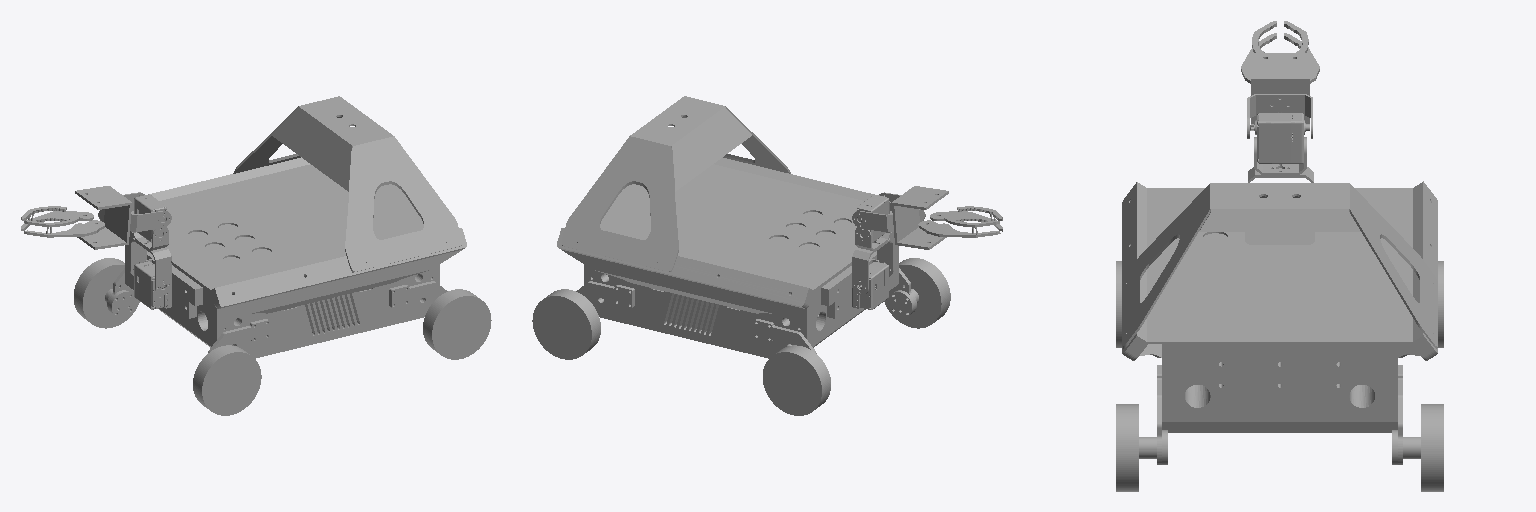
--- What the picture shows (computed from the rendered views, not written in the file) ---
3 views of the same robot in one strip: view 1: azimuth 30°, elevation 25°; view 2: azimuth 150°, elevation 25°; view 3: azimuth 270°, elevation 25° (orthographic).
Robot: combine — 22 links, 21 joints (6 continuous, 15 fixed); root link base_link; default pose: all joints at 0.
Visible links, largest first — view 1: base_link, car_wheel_v1_1, car_wheel_v1_2, car_wheel_v1_3, grap_base_v1_1, big_U_self_v1_1, new_motor_v2_1, grap2_v1_Mirror___1__1, car_stand_v1_1, car_stand_v1_3, big_U_self_v1__1__1, grap2_v1_1 (+2 smaller); view 2: base_link, car_wheel_v1_3, car_wheel_v1_4, car_wheel_v1_1, grap_base_v1_1, big_U_self_v1_1, new_motor_v2_1, grap2_v1_1, car_stand_v1_2, car_stand_v1_4, big_U_self_v1__1__1, grap2_v1_Mirror___1__1 (+2 smaller); view 3: base_link, grap_base_v1_1, new_motor_v2__1__1, car_wheel_v1_2, car_wheel_v1_4, big_U_self_v1__1__1, small_U_self_v1_1, grap2_v1_Mirror___1__1, grap2_v1_1.
Boxes of the visible links, box(x1,y1,x2,y2) form: base_link: box(98, 96, 466, 358); car_wheel_v1_1: box(193, 345, 261, 415); car_wheel_v1_2: box(423, 289, 491, 359); car_wheel_v1_3: box(74, 258, 139, 328); grap_base_v1_1: box(75, 186, 131, 249); big_U_self_v1_1: box(130, 238, 171, 294); new_motor_v2_1: box(134, 261, 166, 309); grap2_v1_Mirror___1__1: box(24, 216, 104, 237); car_stand_v1_1: box(389, 281, 447, 307); car_stand_v1_3: box(208, 319, 269, 352); big_U_self_v1__1__1: box(123, 192, 171, 231); grap2_v1_1: box(21, 206, 93, 230); base_link: box(557, 96, 925, 358); car_wheel_v1_3: box(763, 345, 830, 415); car_wheel_v1_4: box(532, 289, 600, 359); car_wheel_v1_1: box(884, 258, 950, 328); grap_base_v1_1: box(892, 186, 948, 249); big_U_self_v1_1: box(852, 238, 893, 295); new_motor_v2_1: box(857, 262, 888, 309); grap2_v1_1: box(918, 216, 1000, 237); car_stand_v1_2: box(576, 281, 634, 307); car_stand_v1_4: box(754, 319, 816, 353); big_U_self_v1__1__1: box(852, 192, 900, 232); grap2_v1_Mirror___1__1: box(930, 206, 1002, 231); base_link: box(1122, 181, 1437, 432); grap_base_v1_1: box(1251, 53, 1309, 124); new_motor_v2__1__1: box(1250, 113, 1309, 163); car_wheel_v1_2: box(1116, 404, 1156, 491); car_wheel_v1_4: box(1403, 404, 1443, 491); big_U_self_v1__1__1: box(1247, 94, 1312, 138); small_U_self_v1_1: box(1254, 137, 1306, 174); grap2_v1_Mirror___1__1: box(1241, 21, 1276, 83); grap2_v1_1: box(1284, 21, 1319, 83).
Size in the robot's own frame: 0.5075 by 0.2792 by 0.2434 metres.
22 mesh visuals loaded from 22 distinct referenced files (22 binary STL).

URDF robot description (combine):
<?xml version="1.0" ?>
<!-- =================================================================================== -->
<!-- |    This document was autogenerated by xacro from urdf\combine.xacro.temp        | -->
<!-- |    EDITING THIS FILE BY HAND IS NOT RECOMMENDED                                 | -->
<!-- =================================================================================== -->
<robot xmlns:xacro="http://www.ros.org/wiki/xacro" name="combine">
  <material name="silver">
    <color rgba="0.700 0.700 0.700 1.000"/>
  </material>
  <transmission name="Revolute 16_tran">
    <type>transmission_interface/SimpleTransmission</type>
    <joint name="Revolute 16">
      <hardwareInterface>hardware_interface/EffortJointInterface</hardwareInterface>
    </joint>
    <actuator name="Revolute 16_actr">
      <hardwareInterface>hardware_interface/EffortJointInterface</hardwareInterface>
      <mechanicalReduction>1</mechanicalReduction>
    </actuator>
  </transmission>
  <transmission name="Revolute 17_tran">
    <type>transmission_interface/SimpleTransmission</type>
    <joint name="Revolute 17">
      <hardwareInterface>hardware_interface/EffortJointInterface</hardwareInterface>
    </joint>
    <actuator name="Revolute 17_actr">
      <hardwareInterface>hardware_interface/EffortJointInterface</hardwareInterface>
      <mechanicalReduction>1</mechanicalReduction>
    </actuator>
  </transmission>
  <transmission name="Revolute 18_tran">
    <type>transmission_interface/SimpleTransmission</type>
    <joint name="Revolute 18">
      <hardwareInterface>hardware_interface/EffortJointInterface</hardwareInterface>
    </joint>
    <actuator name="Revolute 18_actr">
      <hardwareInterface>hardware_interface/EffortJointInterface</hardwareInterface>
      <mechanicalReduction>1</mechanicalReduction>
    </actuator>
  </transmission>
  <transmission name="Revolute 19_tran">
    <type>transmission_interface/SimpleTransmission</type>
    <joint name="Revolute 19">
      <hardwareInterface>hardware_interface/EffortJointInterface</hardwareInterface>
    </joint>
    <actuator name="Revolute 19_actr">
      <hardwareInterface>hardware_interface/EffortJointInterface</hardwareInterface>
      <mechanicalReduction>1</mechanicalReduction>
    </actuator>
  </transmission>
  <transmission name="Revolute 25_tran">
    <type>transmission_interface/SimpleTransmission</type>
    <joint name="Revolute 25">
      <hardwareInterface>hardware_interface/EffortJointInterface</hardwareInterface>
    </joint>
    <actuator name="Revolute 25_actr">
      <hardwareInterface>hardware_interface/EffortJointInterface</hardwareInterface>
      <mechanicalReduction>1</mechanicalReduction>
    </actuator>
  </transmission>
  <transmission name="Revolute 28_tran">
    <type>transmission_interface/SimpleTransmission</type>
    <joint name="Revolute 28">
      <hardwareInterface>hardware_interface/EffortJointInterface</hardwareInterface>
    </joint>
    <actuator name="Revolute 28_actr">
      <hardwareInterface>hardware_interface/EffortJointInterface</hardwareInterface>
      <mechanicalReduction>1</mechanicalReduction>
    </actuator>
  </transmission>
  <!-- omitted .gazebo include -->
  <link name="base_link">
    <inertial>
      <origin xyz="2.6201367459841687 1.5370486071756042 0.09548127947996286" rpy="0 0 0"/>
      <mass value="40.85698587188984"/>
      <inertia ixx="0.201325" iyy="0.334676" izz="0.44481" ixy="4.2e-05" iyz="-0.00022" ixz="-0.004755"/>
    </inertial>
    <visual>
      <origin xyz="0 0 0" rpy="0 0 0"/>
      <geometry>
        <mesh filename="package://combine_description/meshes/base_link.stl" scale="0.001 0.001 0.001"/>
      </geometry>
      <material name="silver"/>
    </visual>
    <collision>
      <origin xyz="0 0 0" rpy="0 0 0"/>
      <geometry>
        <mesh filename="package://combine_description/meshes/base_link.stl" scale="0.001 0.001 0.001"/>
      </geometry>
    </collision>
  </link>
  <link name="Side_U_Bracket_Component1_v1_1">
    <inertial>
      <origin xyz="-0.002196073410680288 -1.5866330471681067e-08 -8.454843394226086e-05" rpy="0 0 0"/>
      <mass value="0.029510409828806653"/>
      <inertia ixx="1.1e-05" iyy="4e-06" izz="7e-06" ixy="0.0" iyz="-0.0" ixz="-0.0"/>
    </inertial>
    <visual>
      <origin xyz="-2.470346 -1.536923 -0.103876" rpy="0 0 0"/>
      <geometry>
        <mesh filename="package://combine_description/meshes/Side_U_Bracket_Component1_v1_1.stl" scale="0.001 0.001 0.001"/>
      </geometry>
      <material name="silver"/>
    </visual>
    <collision>
      <origin xyz="-2.470346 -1.536923 -0.103876" rpy="0 0 0"/>
      <geometry>
        <mesh filename="package://combine_description/meshes/Side_U_Bracket_Component1_v1_1.stl" scale="0.001 0.001 0.001"/>
      </geometry>
    </collision>
  </link>
  <link name="car_stand_v1_1">
    <inertial>
      <origin xyz="0.03989025557665071 -0.00250001586541293 -0.01795345148025415" rpy="0 0 0"/>
      <mass value="0.06574803361092377"/>
      <inertia ixx="1.6e-05" iyy="5.4e-05" izz="3.7e-05" ixy="0.0" iyz="-0.0" ixz="1.6e-05"/>
    </inertial>
    <visual>
      <origin xyz="-2.69969 -1.436923 -0.081538" rpy="0 0 0"/>
      <geometry>
        <mesh filename="package://combine_description/meshes/car_stand_v1_1.stl" scale="0.001 0.001 0.001"/>
      </geometry>
      <material name="silver"/>
    </visual>
    <collision>
      <origin xyz="-2.69969 -1.436923 -0.081538" rpy="0 0 0"/>
      <geometry>
        <mesh filename="package://combine_description/meshes/car_stand_v1_1.stl" scale="0.001 0.001 0.001"/>
      </geometry>
    </collision>
  </link>
  <link name="car_stand_v1_2">
    <inertial>
      <origin xyz="0.039890255576655154 0.0024999841345871854 -0.01795345148025415" rpy="0 0 0"/>
      <mass value="0.06574803361092377"/>
      <inertia ixx="1.6e-05" iyy="5.4e-05" izz="3.7e-05" ixy="0.0" iyz="0.0" ixz="1.6e-05"/>
    </inertial>
    <visual>
      <origin xyz="-2.69969 -1.636923 -0.081538" rpy="0 0 0"/>
      <geometry>
        <mesh filename="package://combine_description/meshes/car_stand_v1_2.stl" scale="0.001 0.001 0.001"/>
      </geometry>
      <material name="silver"/>
    </visual>
    <collision>
      <origin xyz="-2.69969 -1.636923 -0.081538" rpy="0 0 0"/>
      <geometry>
        <mesh filename="package://combine_description/meshes/car_stand_v1_2.stl" scale="0.001 0.001 0.001"/>
      </geometry>
    </collision>
  </link>
  <link name="car_stand_v1_3">
    <inertial>
      <origin xyz="-0.039890124337906396 -0.0025000158654198135 -0.017953451480257565" rpy="0 0 0"/>
      <mass value="0.06574803361092377"/>
      <inertia ixx="1.6e-05" iyy="5.4e-05" izz="3.7e-05" ixy="-0.0" iyz="-0.0" ixz="-1.6e-05"/>
    </inertial>
    <visual>
      <origin xyz="-2.541022 -1.436923 -0.081538" rpy="0 0 0"/>
      <geometry>
        <mesh filename="package://combine_description/meshes/car_stand_v1_3.stl" scale="0.001 0.001 0.001"/>
      </geometry>
      <material name="silver"/>
    </visual>
    <collision>
      <origin xyz="-2.541022 -1.436923 -0.081538" rpy="0 0 0"/>
      <geometry>
        <mesh filename="package://combine_description/meshes/car_stand_v1_3.stl" scale="0.001 0.001 0.001"/>
      </geometry>
    </collision>
  </link>
  <link name="car_stand_v1_4">
    <inertial>
      <origin xyz="-0.039890124337905064 0.002499984134580524 -0.017953451480259258" rpy="0 0 0"/>
      <mass value="0.06574803361092377"/>
      <inertia ixx="1.6e-05" iyy="5.4e-05" izz="3.7e-05" ixy="0.0" iyz="-0.0" ixz="-1.6e-05"/>
    </inertial>
    <visual>
      <origin xyz="-2.541022 -1.636923 -0.081538" rpy="0 0 0"/>
      <geometry>
        <mesh filename="package://combine_description/meshes/car_stand_v1_4.stl" scale="0.001 0.001 0.001"/>
      </geometry>
      <material name="silver"/>
    </visual>
    <collision>
      <origin xyz="-2.541022 -1.636923 -0.081538" rpy="0 0 0"/>
      <geometry>
        <mesh filename="package://combine_description/meshes/car_stand_v1_4.stl" scale="0.001 0.001 0.001"/>
      </geometry>
    </collision>
  </link>
  <link name="car_stand_2_v1__1__1">
    <inertial>
      <origin xyz="1.3964352207906927e-07 0.0024999841345731966 -3.022581173614536e-07" rpy="0 0 0"/>
      <mass value="0.02564919549902349"/>
      <inertia ixx="1e-06" iyy="3e-06" izz="1e-06" ixy="0.0" iyz="0.0" ixz="0.0"/>
    </inertial>
    <visual>
      <origin xyz="-2.476249 -1.436923 -0.03769" rpy="0 0 0"/>
      <geometry>
        <mesh filename="package://combine_description/meshes/car_stand_2_v1__1__1.stl" scale="0.001 0.001 0.001"/>
      </geometry>
      <material name="silver"/>
    </visual>
    <collision>
      <origin xyz="-2.476249 -1.436923 -0.03769" rpy="0 0 0"/>
      <geometry>
        <mesh filename="package://combine_description/meshes/car_stand_2_v1__1__1.stl" scale="0.001 0.001 0.001"/>
      </geometry>
    </collision>
  </link>
  <link name="car_stand_2_v1_1">
    <inertial>
      <origin xyz="1.3964352607587216e-07 -0.0025000158654255866 -3.0225811991496654e-07" rpy="0 0 0"/>
      <mass value="0.02564919549902349"/>
      <inertia ixx="1e-06" iyy="3e-06" izz="1e-06" ixy="0.0" iyz="0.0" ixz="-0.0"/>
    </inertial>
    <visual>
      <origin xyz="-2.476249 -1.636923 -0.03769" rpy="0 0 0"/>
      <geometry>
        <mesh filename="package://combine_description/meshes/car_stand_2_v1_1.stl" scale="0.001 0.001 0.001"/>
      </geometry>
      <material name="silver"/>
    </visual>
    <collision>
      <origin xyz="-2.476249 -1.636923 -0.03769" rpy="0 0 0"/>
      <geometry>
        <mesh filename="package://combine_description/meshes/car_stand_2_v1_1.stl" scale="0.001 0.001 0.001"/>
      </geometry>
    </collision>
  </link>
  <link name="car_stand_2_v1__1__2">
    <inertial>
      <origin xyz="-8.404806628448114e-09 0.0024999841345869633 -3.022581139544567e-07" rpy="0 0 0"/>
      <mass value="0.02564919549902349"/>
      <inertia ixx="1e-06" iyy="3e-06" izz="1e-06" ixy="-0.0" iyz="0.0" ixz="0.0"/>
    </inertial>
    <visual>
      <origin xyz="-2.764463 -1.436923 -0.03769" rpy="0 0 0"/>
      <geometry>
        <mesh filename="package://combine_description/meshes/car_stand_2_v1__1__2.stl" scale="0.001 0.001 0.001"/>
      </geometry>
      <material name="silver"/>
    </visual>
    <collision>
      <origin xyz="-2.764463 -1.436923 -0.03769" rpy="0 0 0"/>
      <geometry>
        <mesh filename="package://combine_description/meshes/car_stand_2_v1__1__2.stl" scale="0.001 0.001 0.001"/>
      </geometry>
    </collision>
  </link>
  <link name="car_stand_2_v1__1__3">
    <inertial>
      <origin xyz="-8.404802187556015e-09 -0.00250001586541293 -3.022581139544567e-07" rpy="0 0 0"/>
      <mass value="0.02564919549902349"/>
      <inertia ixx="1e-06" iyy="3e-06" izz="1e-06" ixy="-0.0" iyz="0.0" ixz="0.0"/>
    </inertial>
    <visual>
      <origin xyz="-2.764463 -1.636923 -0.03769" rpy="0 0 0"/>
      <geometry>
        <mesh filename="package://combine_description/meshes/car_stand_2_v1__1__3.stl" scale="0.001 0.001 0.001"/>
      </geometry>
      <material name="silver"/>
    </visual>
    <collision>
      <origin xyz="-2.764463 -1.636923 -0.03769" rpy="0 0 0"/>
      <geometry>
        <mesh filename="package://combine_description/meshes/car_stand_2_v1__1__3.stl" scale="0.001 0.001 0.001"/>
      </geometry>
    </collision>
  </link>
  <link name="car_wheel_v1_1">
    <inertial>
      <origin xyz="1.396435904688076e-07 -0.02381583259739828 -3.0225812865103396e-07" rpy="0 0 0"/>
      <mass value="0.7168827451003478"/>
      <inertia ixx="0.000271" iyy="0.000476" izz="0.000271" ixy="-0.0" iyz="0.0" ixz="0.0"/>
    </inertial>
    <visual>
      <origin xyz="-2.476249 -1.431923 -0.03769" rpy="0 0 0"/>
      <geometry>
        <mesh filename="package://combine_description/meshes/car_wheel_v1_1.stl" scale="0.001 0.001 0.001"/>
      </geometry>
      <material name="silver"/>
    </visual>
    <collision>
      <origin xyz="-2.476249 -1.431923 -0.03769" rpy="0 0 0"/>
      <geometry>
        <mesh filename="package://combine_description/meshes/car_wheel_v1_1.stl" scale="0.001 0.001 0.001"/>
      </geometry>
    </collision>
  </link>
  <link name="car_wheel_v1_2">
    <inertial>
      <origin xyz="-8.404738238709797e-09 -0.02381583259738429 -3.0225812480688674e-07" rpy="0 0 0"/>
      <mass value="0.7168827451003478"/>
      <inertia ixx="0.000271" iyy="0.000476" izz="0.000271" ixy="-0.0" iyz="0.0" ixz="0.0"/>
    </inertial>
    <visual>
      <origin xyz="-2.764463 -1.431923 -0.03769" rpy="0 0 0"/>
      <geometry>
        <mesh filename="package://combine_description/meshes/car_wheel_v1_2.stl" scale="0.001 0.001 0.001"/>
      </geometry>
      <material name="silver"/>
    </visual>
    <collision>
      <origin xyz="-2.764463 -1.431923 -0.03769" rpy="0 0 0"/>
      <geometry>
        <mesh filename="package://combine_description/meshes/car_wheel_v1_2.stl" scale="0.001 0.001 0.001"/>
      </geometry>
    </collision>
  </link>
  <link name="car_wheel_v1_3">
    <inertial>
      <origin xyz="1.3964357847839892e-07 0.02381580086654589 -3.0225810749434645e-07" rpy="0 0 0"/>
      <mass value="0.7168827451003478"/>
      <inertia ixx="0.000271" iyy="0.000476" izz="0.000271" ixy="0.0" iyz="0.0" ixz="-0.0"/>
    </inertial>
    <visual>
      <origin xyz="-2.476249 -1.641923 -0.03769" rpy="0 0 0"/>
      <geometry>
        <mesh filename="package://combine_description/meshes/car_wheel_v1_3.stl" scale="0.001 0.001 0.001"/>
      </geometry>
      <material name="silver"/>
    </visual>
    <collision>
      <origin xyz="-2.476249 -1.641923 -0.03769" rpy="0 0 0"/>
      <geometry>
        <mesh filename="package://combine_description/meshes/car_wheel_v1_3.stl" scale="0.001 0.001 0.001"/>
      </geometry>
    </collision>
  </link>
  <link name="car_wheel_v1_4">
    <inertial>
      <origin xyz="-8.404747564583204e-09 0.023815800866558545 -3.0225810280365417e-07" rpy="0 0 0"/>
      <mass value="0.7168827451003478"/>
      <inertia ixx="0.000271" iyy="0.000476" izz="0.000271" ixy="0.0" iyz="0.0" ixz="-0.0"/>
    </inertial>
    <visual>
      <origin xyz="-2.764463 -1.641923 -0.03769" rpy="0 0 0"/>
      <geometry>
        <mesh filename="package://combine_description/meshes/car_wheel_v1_4.stl" scale="0.001 0.001 0.001"/>
      </geometry>
      <material name="silver"/>
    </visual>
    <collision>
      <origin xyz="-2.764463 -1.641923 -0.03769" rpy="0 0 0"/>
      <geometry>
        <mesh filename="package://combine_description/meshes/car_wheel_v1_4.stl" scale="0.001 0.001 0.001"/>
      </geometry>
    </collision>
  </link>
  <link name="new_motor_v2_1">
    <inertial>
      <origin xyz="-0.007452162690622988 -0.022426766220087657 0.017654058215962137" rpy="0 0 0"/>
      <mass value="0.20364393858439991"/>
      <inertia ixx="5.1e-05" iyy="3.5e-05" izz="3e-05" ixy="-0.0" iyz="-0.0" ixz="-0.0"/>
    </inertial>
    <visual>
      <origin xyz="-2.463033 -1.557173 -0.086342" rpy="0 0 0"/>
      <geometry>
        <mesh filename="package://combine_description/meshes/new_motor_v2_1.stl" scale="0.001 0.001 0.001"/>
      </geometry>
      <material name="silver"/>
    </visual>
    <collision>
      <origin xyz="-2.463033 -1.557173 -0.086342" rpy="0 0 0"/>
      <geometry>
        <mesh filename="package://combine_description/meshes/new_motor_v2_1.stl" scale="0.001 0.001 0.001"/>
      </geometry>
    </collision>
  </link>
  <link name="big_U_self_v1_1">
    <inertial>
      <origin xyz="-9.278559600200964e-06 -1.5859400459561357e-08 0.02423730026333773" rpy="0 0 0"/>
      <mass value="0.04184744776648081"/>
      <inertia ixx="3.2e-05" iyy="1.1e-05" izz="2.4e-05" ixy="0.0" iyz="0.0" ixz="0.0"/>
    </inertial>
    <visual>
      <origin xyz="-2.455529 -1.537423 -0.113896" rpy="0 0 0"/>
      <geometry>
        <mesh filename="package://combine_description/meshes/big_U_self_v1_1.stl" scale="0.001 0.001 0.001"/>
      </geometry>
      <material name="silver"/>
    </visual>
    <collision>
      <origin xyz="-2.455529 -1.537423 -0.113896" rpy="0 0 0"/>
      <geometry>
        <mesh filename="package://combine_description/meshes/big_U_self_v1_1.stl" scale="0.001 0.001 0.001"/>
      </geometry>
    </collision>
  </link>
  <link name="small_U_self_v1_1">
    <inertial>
      <origin xyz="-3.362366400416761e-06 -1.5858258262113623e-08 0.008808887308101726" rpy="0 0 0"/>
      <mass value="0.024887279691899796"/>
      <inertia ixx="1e-05" iyy="3e-06" izz="9e-06" ixy="0.0" iyz="0.0" ixz="0.0"/>
    </inertial>
    <visual>
      <origin xyz="-2.455514 -1.537423 -0.153896" rpy="0 0 0"/>
      <geometry>
        <mesh filename="package://combine_description/meshes/small_U_self_v1_1.stl" scale="0.001 0.001 0.001"/>
      </geometry>
      <material name="silver"/>
    </visual>
    <collision>
      <origin xyz="-2.455514 -1.537423 -0.153896" rpy="0 0 0"/>
      <geometry>
        <mesh filename="package://combine_description/meshes/small_U_self_v1_1.stl" scale="0.001 0.001 0.001"/>
      </geometry>
    </collision>
  </link>
  <link name="new_motor_v2__1__1">
    <inertial>
      <origin xyz="4.231245224239899e-05 0.017373906255655047 0.017158219614772457" rpy="0 0 0"/>
      <mass value="0.2031909561032669"/>
      <inertia ixx="5.1e-05" iyy="3.4e-05" izz="3e-05" ixy="-0.0" iyz="-0.0" ixz="-0.0"/>
    </inertial>
    <visual>
      <origin xyz="-2.455509 -1.517173 -0.166996" rpy="0 0 0"/>
      <geometry>
        <mesh filename="package://combine_description/meshes/new_motor_v2__1__1.stl" scale="0.001 0.001 0.001"/>
      </geometry>
      <material name="silver"/>
    </visual>
    <collision>
      <origin xyz="-2.455509 -1.517173 -0.166996" rpy="0 0 0"/>
      <geometry>
        <mesh filename="package://combine_description/meshes/new_motor_v2__1__1.stl" scale="0.001 0.001 0.001"/>
      </geometry>
    </collision>
  </link>
  <link name="big_U_self_v1__1__1">
    <inertial>
      <origin xyz="0.02099481110863044 -1.5859162427744877e-08 -0.012111156182783689" rpy="0 0 0"/>
      <mass value="0.04184744776648075"/>
      <inertia ixx="2.6e-05" iyy="1.1e-05" izz="3e-05" ixy="0.0" iyz="0.0" ixz="4e-06"/>
    </inertial>
    <visual>
      <origin xyz="-2.455499 -1.537223 -0.194016" rpy="0 0 0"/>
      <geometry>
        <mesh filename="package://combine_description/meshes/big_U_self_v1__1__1.stl" scale="0.001 0.001 0.001"/>
      </geometry>
      <material name="silver"/>
    </visual>
    <collision>
      <origin xyz="-2.455499 -1.537223 -0.194016" rpy="0 0 0"/>
      <geometry>
        <mesh filename="package://combine_description/meshes/big_U_self_v1__1__1.stl" scale="0.001 0.001 0.001"/>
      </geometry>
    </collision>
  </link>
  <link name="grap_base_v1_1">
    <inertial>
      <origin xyz="0.012620205137387153 -1.5859888291558377e-08 -0.007280159470022279" rpy="0 0 0"/>
      <mass value="0.15189124788812738"/>
      <inertia ixx="8.7e-05" iyy="9.3e-05" izz="6.9e-05" ixy="-0.0" iyz="-0.0" ixz="-1.5e-05"/>
    </inertial>
    <visual>
      <origin xyz="-2.490147 -1.537223 -0.174029" rpy="0 0 0"/>
      <geometry>
        <mesh filename="package://combine_description/meshes/grap_base_v1_1.stl" scale="0.001 0.001 0.001"/>
      </geometry>
      <material name="silver"/>
    </visual>
    <collision>
      <origin xyz="-2.490147 -1.537223 -0.174029" rpy="0 0 0"/>
      <geometry>
        <mesh filename="package://combine_description/meshes/grap_base_v1_1.stl" scale="0.001 0.001 0.001"/>
      </geometry>
    </collision>
  </link>
  <link name="grap2_v1_1">
    <inertial>
      <origin xyz="0.027888213938345174 0.005587054721650553 -0.01737201961833626" rpy="0 0 0"/>
      <mass value="0.04062678118181498"/>
      <inertia ixx="1.1e-05" iyy="2.6e-05" izz="1.9e-05" ixy="0.0" iyz="-0.0" ixz="1.1e-05"/>
    </inertial>
    <visual>
      <origin xyz="-2.520898 -1.549723 -0.15629" rpy="0 0 0"/>
      <geometry>
        <mesh filename="package://combine_description/meshes/grap2_v1_1.stl" scale="0.001 0.001 0.001"/>
      </geometry>
      <material name="silver"/>
    </visual>
    <collision>
      <origin xyz="-2.520898 -1.549723 -0.15629" rpy="0 0 0"/>
      <geometry>
        <mesh filename="package://combine_description/meshes/grap2_v1_1.stl" scale="0.001 0.001 0.001"/>
      </geometry>
    </collision>
  </link>
  <link name="grap2_v1_Mirror___1__1">
    <inertial>
      <origin xyz="0.027888215302377617 -0.005587086454288848 -0.01737202064016871" rpy="0 0 0"/>
      <mass value="0.04062678364093099"/>
      <inertia ixx="1.1e-05" iyy="2.6e-05" izz="1.9e-05" ixy="-0.0" iyz="0.0" ixz="1.1e-05"/>
    </inertial>
    <visual>
      <origin xyz="-2.520898 -1.524723 -0.15629" rpy="0 0 0"/>
      <geometry>
        <mesh filename="package://combine_description/meshes/grap2_v1_Mirror___1__1.stl" scale="0.001 0.001 0.001"/>
      </geometry>
      <material name="silver"/>
    </visual>
    <collision>
      <origin xyz="-2.520898 -1.524723 -0.15629" rpy="0 0 0"/>
      <geometry>
        <mesh filename="package://combine_description/meshes/grap2_v1_Mirror___1__1.stl" scale="0.001 0.001 0.001"/>
      </geometry>
    </collision>
  </link>
  <joint name="Rigid 1" type="fixed">
    <origin xyz="2.470346 1.536923 0.103876" rpy="0 0 0"/>
    <parent link="base_link"/>
    <child link="Side_U_Bracket_Component1_v1_1"/>
  </joint>
  <joint name="Rigid 8" type="fixed">
    <origin xyz="2.69969 1.436923 0.081538" rpy="0 0 0"/>
    <parent link="base_link"/>
    <child link="car_stand_v1_1"/>
  </joint>
  <joint name="Rigid 9" type="fixed">
    <origin xyz="2.69969 1.636923 0.081538" rpy="0 0 0"/>
    <parent link="base_link"/>
    <child link="car_stand_v1_2"/>
  </joint>
  <joint name="Rigid 10" type="fixed">
    <origin xyz="2.541022 1.436923 0.081538" rpy="0 0 0"/>
    <parent link="base_link"/>
    <child link="car_stand_v1_3"/>
  </joint>
  <joint name="Rigid 11" type="fixed">
    <origin xyz="2.541022 1.636923 0.081538" rpy="0 0 0"/>
    <parent link="base_link"/>
    <child link="car_stand_v1_4"/>
  </joint>
  <joint name="Rigid 12" type="fixed">
    <origin xyz="-0.064773 0.0 -0.043848" rpy="0 0 0"/>
    <parent link="car_stand_v1_3"/>
    <child link="car_stand_2_v1__1__1"/>
  </joint>
  <joint name="Rigid 13" type="fixed">
    <origin xyz="-0.064773 0.0 -0.043848" rpy="0 0 0"/>
    <parent link="car_stand_v1_4"/>
    <child link="car_stand_2_v1_1"/>
  </joint>
  <joint name="Rigid 14" type="fixed">
    <origin xyz="0.064773 0.0 -0.043848" rpy="0 0 0"/>
    <parent link="car_stand_v1_1"/>
    <child link="car_stand_2_v1__1__2"/>
  </joint>
  <joint name="Rigid 15" type="fixed">
    <origin xyz="0.064773 0.0 -0.043848" rpy="0 0 0"/>
    <parent link="car_stand_v1_2"/>
    <child link="car_stand_2_v1__1__3"/>
  </joint>
  <joint name="Revolute 16" type="continuous">
    <origin xyz="-0.064773 -0.005 -0.043848" rpy="0 0 0"/>
    <parent link="car_stand_v1_3"/>
    <child link="car_wheel_v1_1"/>
    <axis xyz="0.0 -1.0 -0.0"/>
  </joint>
  <joint name="Revolute 17" type="continuous">
    <origin xyz="0.064773 -0.005 -0.043848" rpy="0 0 0"/>
    <parent link="car_stand_v1_1"/>
    <child link="car_wheel_v1_2"/>
    <axis xyz="0.0 1.0 0.0"/>
  </joint>
  <joint name="Revolute 18" type="continuous">
    <origin xyz="-0.064773 0.005 -0.043848" rpy="0 0 0"/>
    <parent link="car_stand_v1_4"/>
    <child link="car_wheel_v1_3"/>
    <axis xyz="-0.0 1.0 -0.0"/>
  </joint>
  <joint name="Revolute 19" type="continuous">
    <origin xyz="0.064773 0.005 -0.043848" rpy="0 0 0"/>
    <parent link="car_stand_v1_2"/>
    <child link="car_wheel_v1_4"/>
    <axis xyz="0.0 1.0 0.0"/>
  </joint>
  <joint name="Rigid 24" type="fixed">
    <origin xyz="-0.007313 0.02025 -0.017534" rpy="0 0 0"/>
    <parent link="Side_U_Bracket_Component1_v1_1"/>
    <child link="new_motor_v2_1"/>
  </joint>
  <joint name="Revolute 25" type="continuous">
    <origin xyz="-0.007504 -0.01975 0.027554" rpy="0 0 0"/>
    <parent link="new_motor_v2_1"/>
    <child link="big_U_self_v1_1"/>
    <axis xyz="-0.0 -1.0 0.0"/>
  </joint>
  <joint name="Rigid 26" type="fixed">
    <origin xyz="-1.5e-05 0.0 0.04" rpy="0 0 0"/>
    <parent link="big_U_self_v1_1"/>
    <child link="small_U_self_v1_1"/>
  </joint>
  <joint name="Rigid 27" type="fixed">
    <origin xyz="-5e-06 -0.02025 0.0131" rpy="0 0 0"/>
    <parent link="small_U_self_v1_1"/>
    <child link="new_motor_v2__1__1"/>
  </joint>
  <joint name="Revolute 28" type="continuous">
    <origin xyz="-1e-05 0.02005 0.02702" rpy="0 0 0"/>
    <parent link="new_motor_v2__1__1"/>
    <child link="big_U_self_v1__1__1"/>
    <axis xyz="-0.0 -1.0 0.0"/>
  </joint>
  <joint name="Rigid 29" type="fixed">
    <origin xyz="0.034648 0.0 -0.019987" rpy="0 0 0"/>
    <parent link="big_U_self_v1__1__1"/>
    <child link="grap_base_v1_1"/>
  </joint>
  <joint name="Rigid 32" type="fixed">
    <origin xyz="0.030751 0.0125 -0.017739" rpy="0 0 0"/>
    <parent link="grap_base_v1_1"/>
    <child link="grap2_v1_1"/>
  </joint>
  <joint name="Rigid 33" type="fixed">
    <origin xyz="0.030751 -0.0125 -0.017739" rpy="0 0 0"/>
    <parent link="grap_base_v1_1"/>
    <child link="grap2_v1_Mirror___1__1"/>
  </joint>
</robot>
